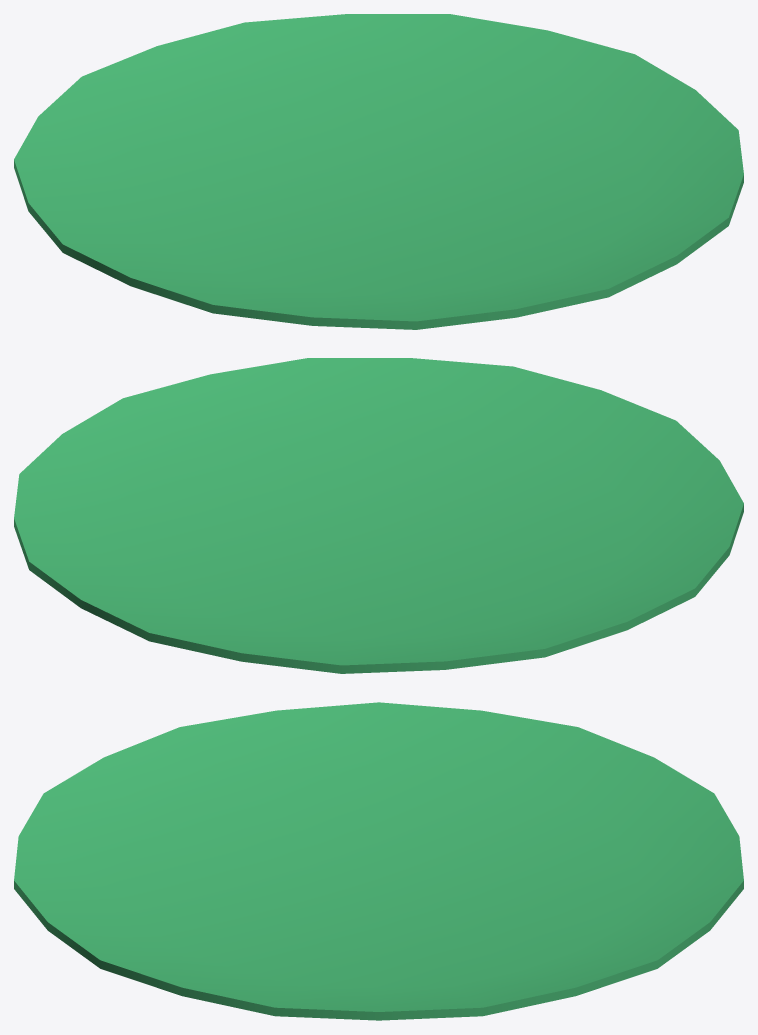
File: plate_01.fbx
The picture shows the model from 3 angles, top to bottom: view 1: azimuth 30°, elevation 25°; view 2: azimuth 150°, elevation 25°; view 3: azimuth 270°, elevation 25°; orthographic projection.
Parts seen in each view (by area): view 1: pCylinder93; view 2: pCylinder93; view 3: pCylinder93.
Part boxes in pixels (x1=…): pCylinder93: x1=14, y1=14, x2=743, y2=329; pCylinder93: x1=14, y1=358, x2=743, y2=673; pCylinder93: x1=14, y1=702, x2=743, y2=1020.
Bounding box in the file's own units: 0.4583 × 0.0238 × 0.4566.
